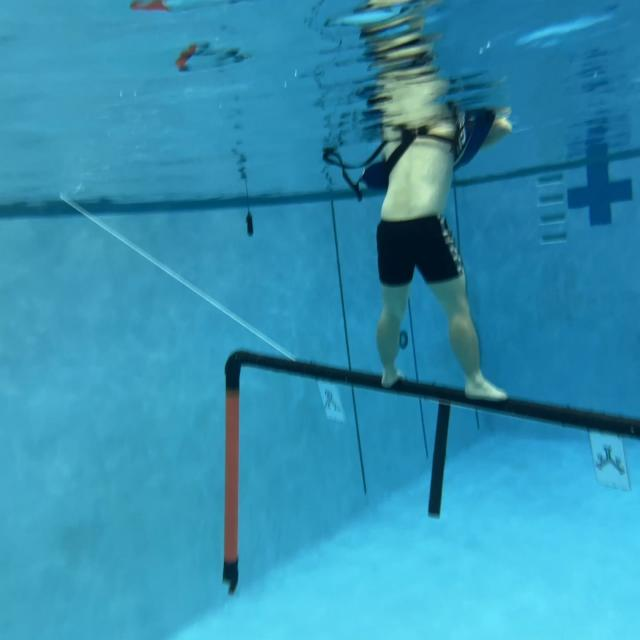abydos: (593, 442, 627, 478)
earth: (320, 389, 342, 413)
gate: (221, 345, 640, 597)
